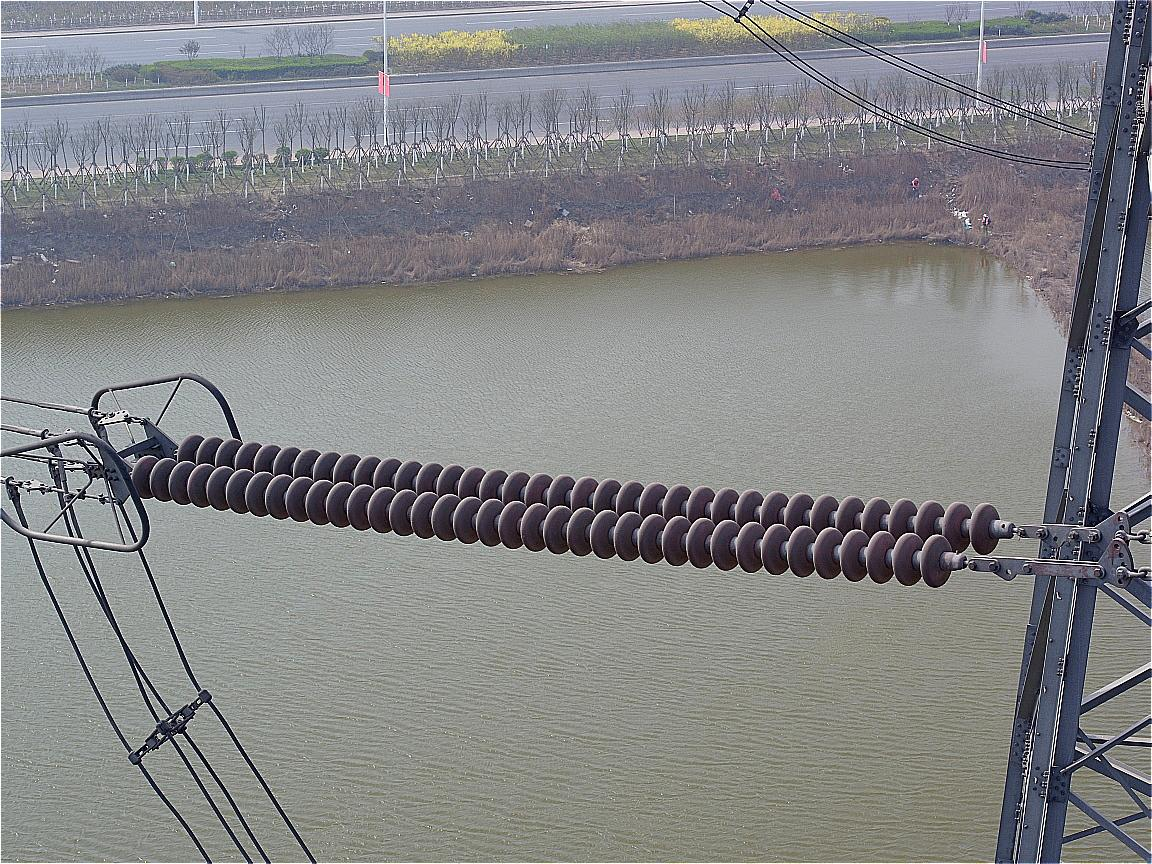insultor1: (132, 433, 1003, 588)
